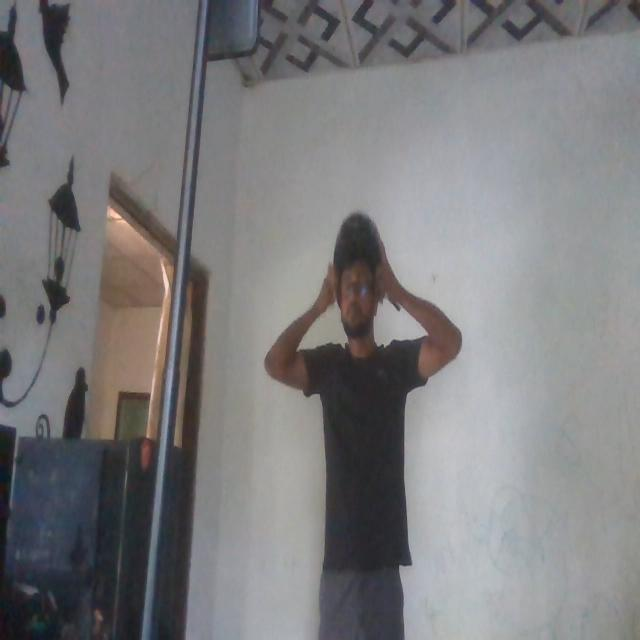Helmet_Wearer: (316, 199, 396, 348)
Person: (287, 204, 467, 631)
